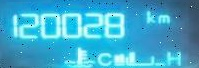0: (60, 12, 81, 37), (39, 12, 59, 37)
1: (10, 13, 17, 36)
2: (17, 12, 38, 37), (82, 12, 102, 37)
8: (102, 12, 123, 37)
X: (165, 50, 180, 65), (96, 52, 111, 65), (145, 10, 154, 23), (157, 14, 170, 23)
